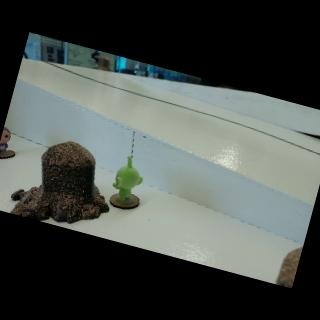teletubby: (112, 156, 142, 201), (0, 126, 10, 153)
